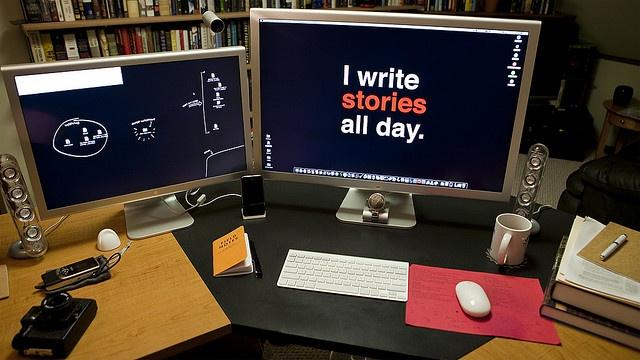AIO PC-Monitor-TV: (248, 6, 541, 227), (0, 44, 253, 240)
